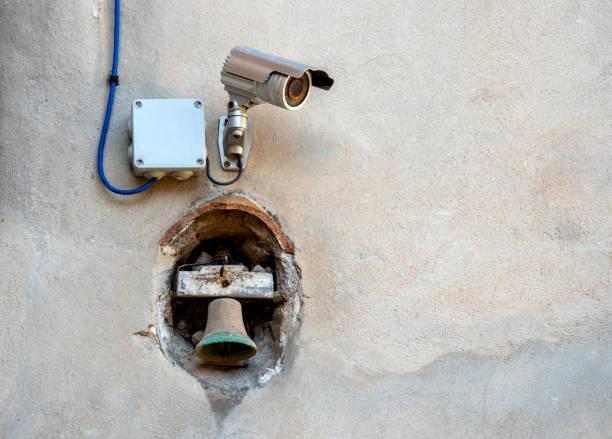camera: (209, 19, 341, 144)
